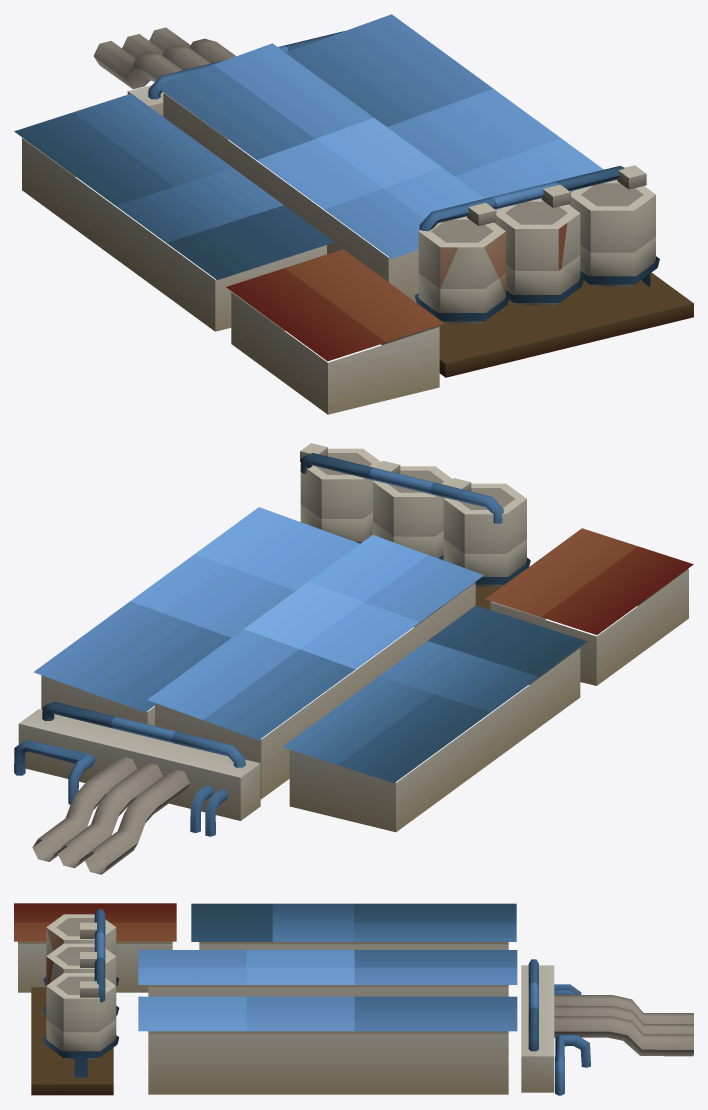
Rendered from SM_WaterTreatment_Part_03.fbx.
3 views of the same model, one above another, from view 1: azimuth 30°, elevation 25°; view 2: azimuth 150°, elevation 25°; view 3: azimuth 270°, elevation 25° (orthographic). The views are drawn at different scales.
Parts seen in each view (by area): view 1: SM_WaterTreatment_Part_03; view 2: SM_WaterTreatment_Part_03; view 3: SM_WaterTreatment_Part_03.
Boxes of the visible parts, x1=… form: SM_WaterTreatment_Part_03: x1=14, y1=14, x2=693, y2=414; SM_WaterTreatment_Part_03: x1=14, y1=443, x2=693, y2=874; SM_WaterTreatment_Part_03: x1=14, y1=903, x2=693, y2=1095.
Bounding box in the file's own units: 3.39 × 1.15 × 6.59.
